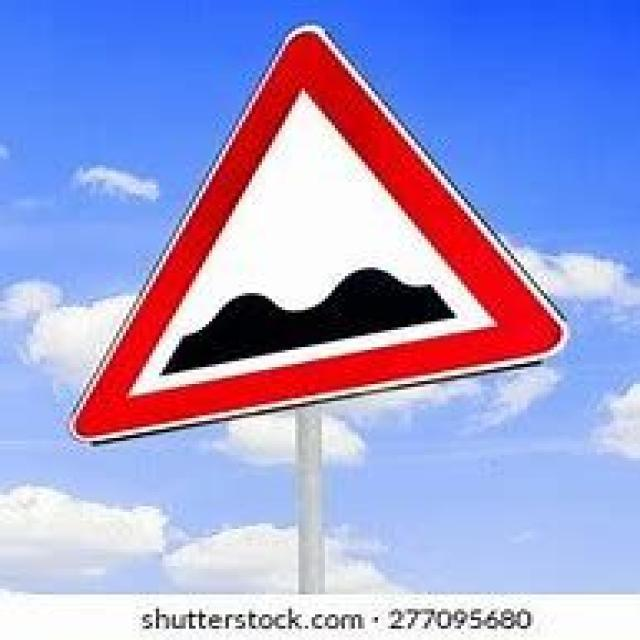hump or rough road: (63, 26, 572, 443)
